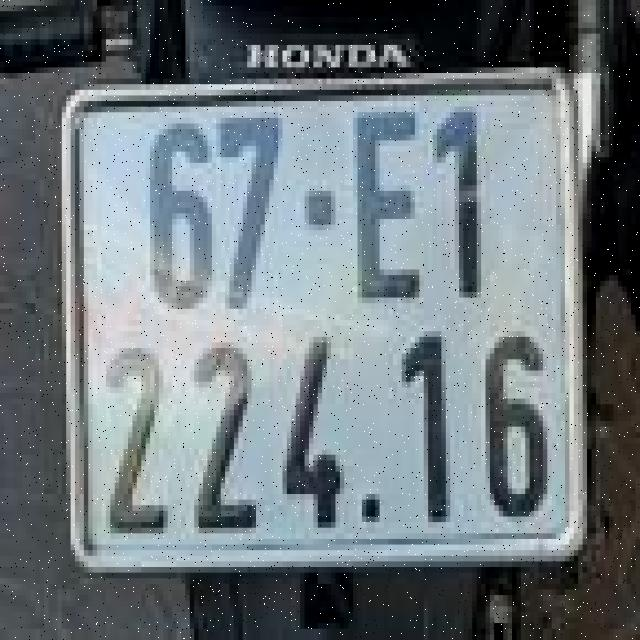1: (428, 101, 494, 314), (399, 320, 462, 533)
2: (181, 323, 265, 547), (90, 351, 174, 553)
4: (276, 320, 355, 545)
6: (479, 326, 563, 533), (143, 110, 223, 312)
7: (218, 101, 284, 320)
E: (344, 98, 428, 306)
